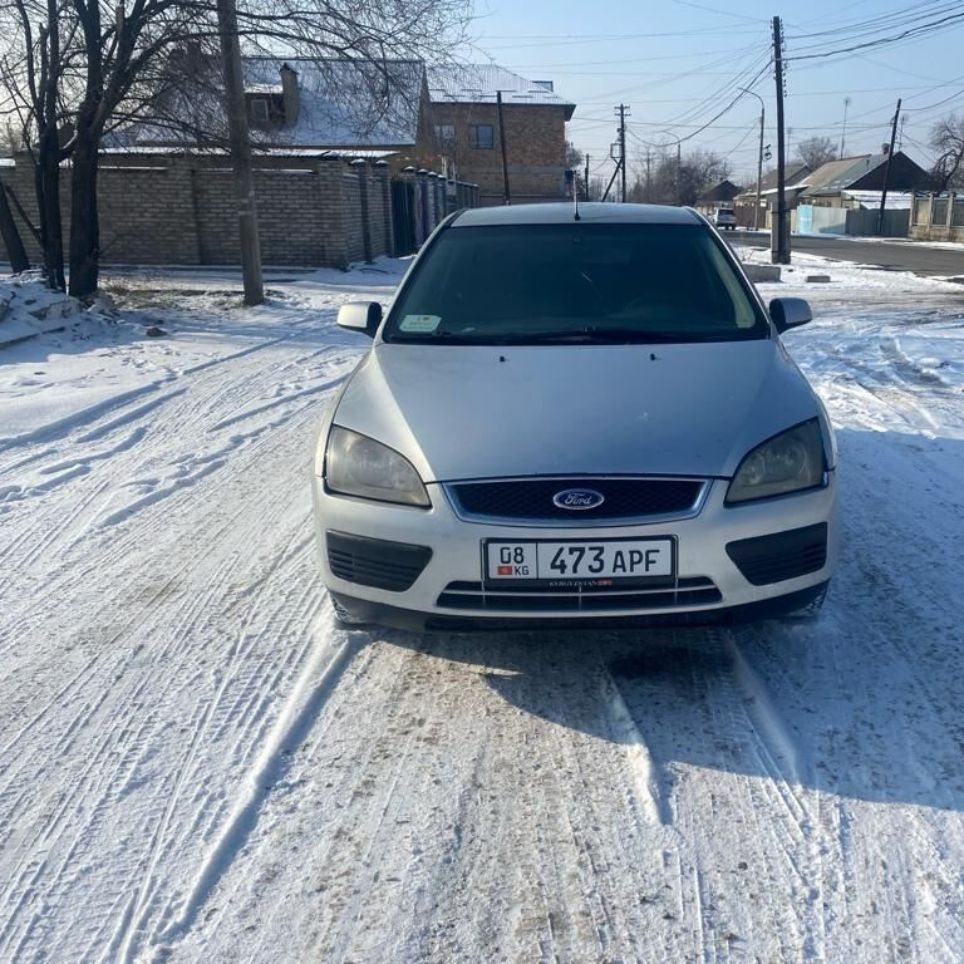license plate: (485, 539, 676, 580)
truck: (314, 201, 840, 626)
